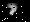person: (8, 4, 19, 17)
